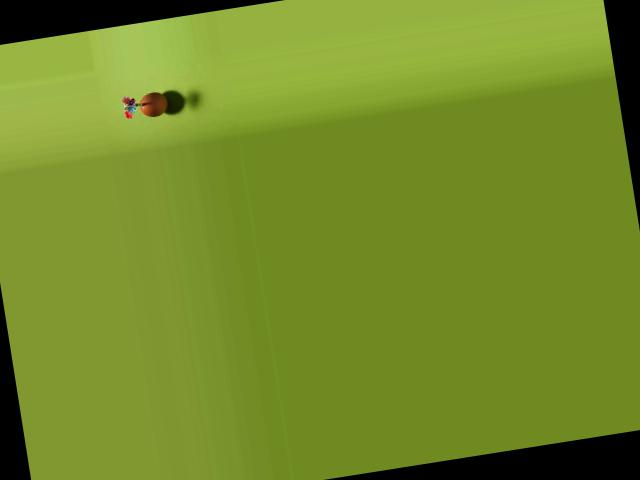egg: (138, 90, 169, 118)
